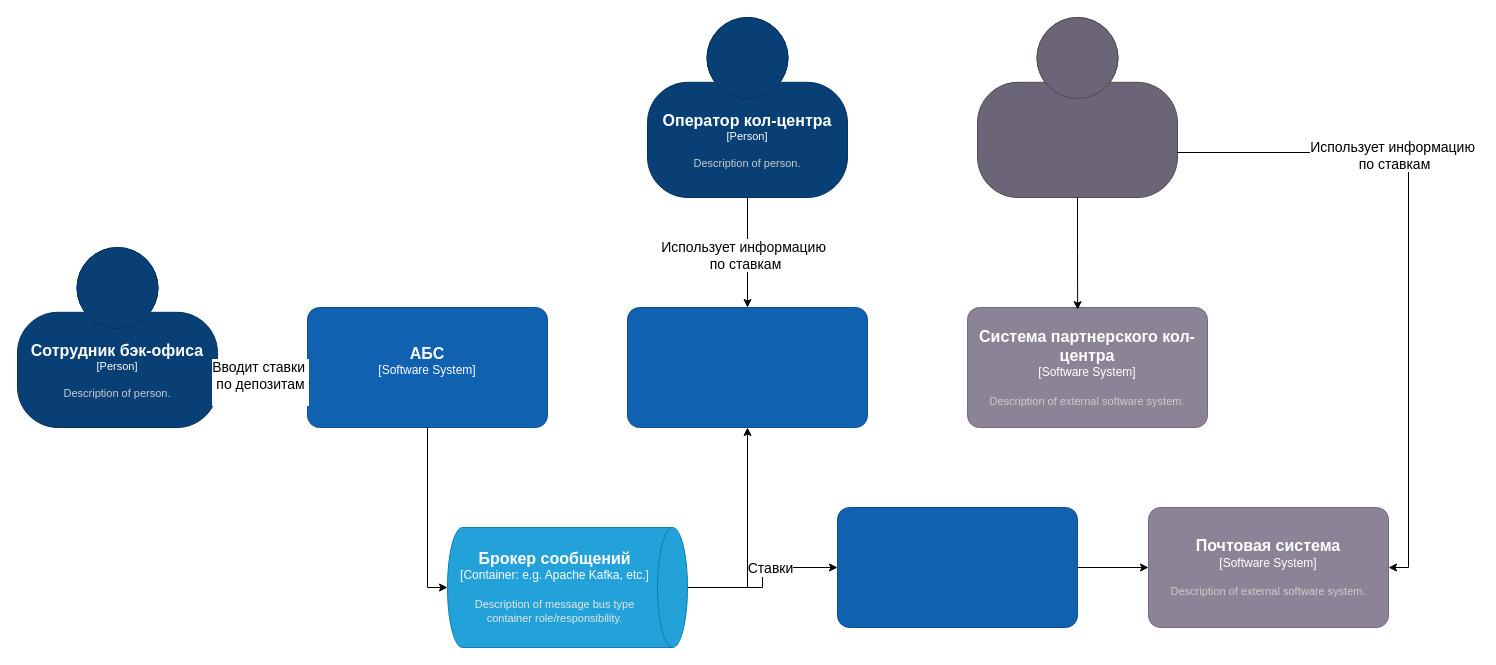
Image size: 1496x665. Some labels were removed from this diagram. Each missing label, with the centre of its shape:
"Оператор партнерского кол-центра [Person] Description of external person" belongs at (1077,107).
"Сервис передачи сообщений по почте [Software System]" belongs at (957,567).
"Система кол-центра [Software System] Description of software system." belongs at (747,367).
